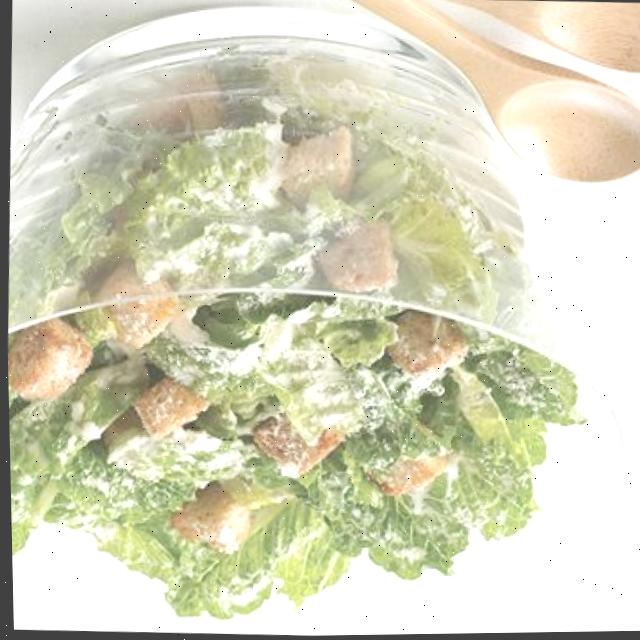蔬菜料理: (0, 14, 640, 640)
